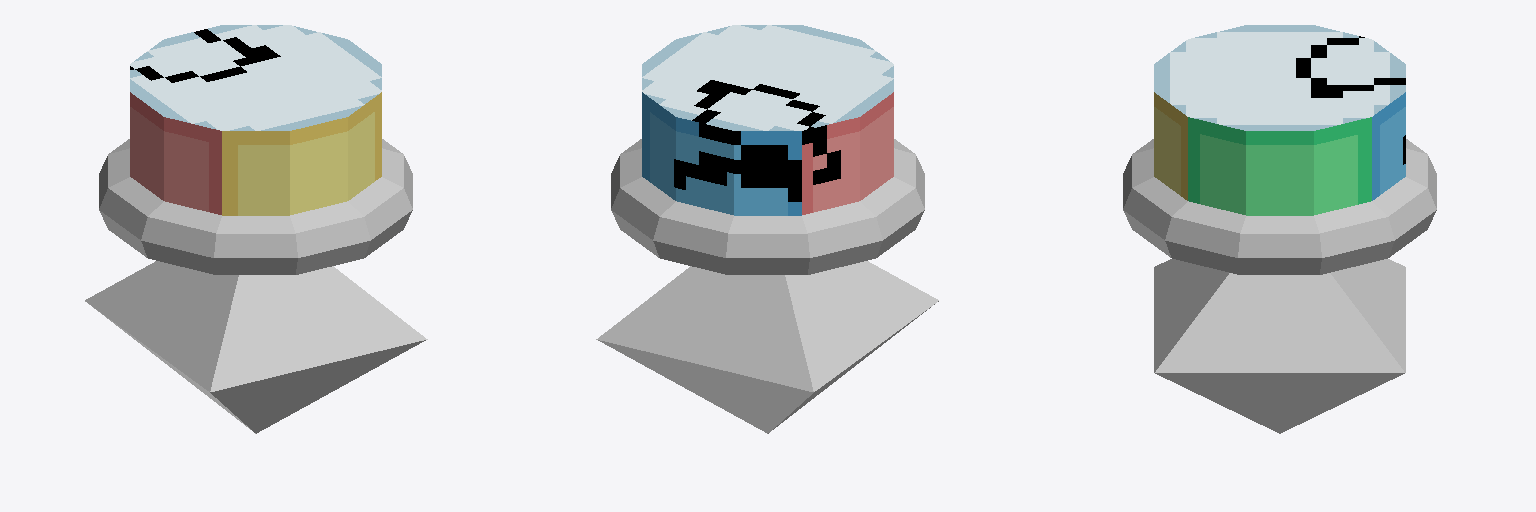
The picture shows the model from 3 angles: view 1: azimuth 30°, elevation 25°; view 2: azimuth 150°, elevation 25°; view 3: azimuth 270°, elevation 25°; orthographic projection.
Visible parts, largest first — view 1: cylinder, pyramid, torus; view 2: cylinder, pyramid, torus; view 3: cylinder, pyramid, torus.
Part boxes in pixels (left/top/right/bottom): cylinder: left=130, top=25, right=381, bottom=215; pyramid: left=85, top=261, right=427, bottom=433; torus: left=99, top=139, right=412, bottom=274; cylinder: left=642, top=25, right=893, bottom=215; pyramid: left=596, top=261, right=938, bottom=433; torus: left=611, top=139, right=924, bottom=274; cylinder: left=1154, top=25, right=1405, bottom=215; pyramid: left=1154, top=259, right=1405, bottom=433; torus: left=1123, top=139, right=1436, bottom=274.
Bounding box in the file's own units: 1.25 × 1.56 × 1.25.
Materials: 2 (1 with a texture image).